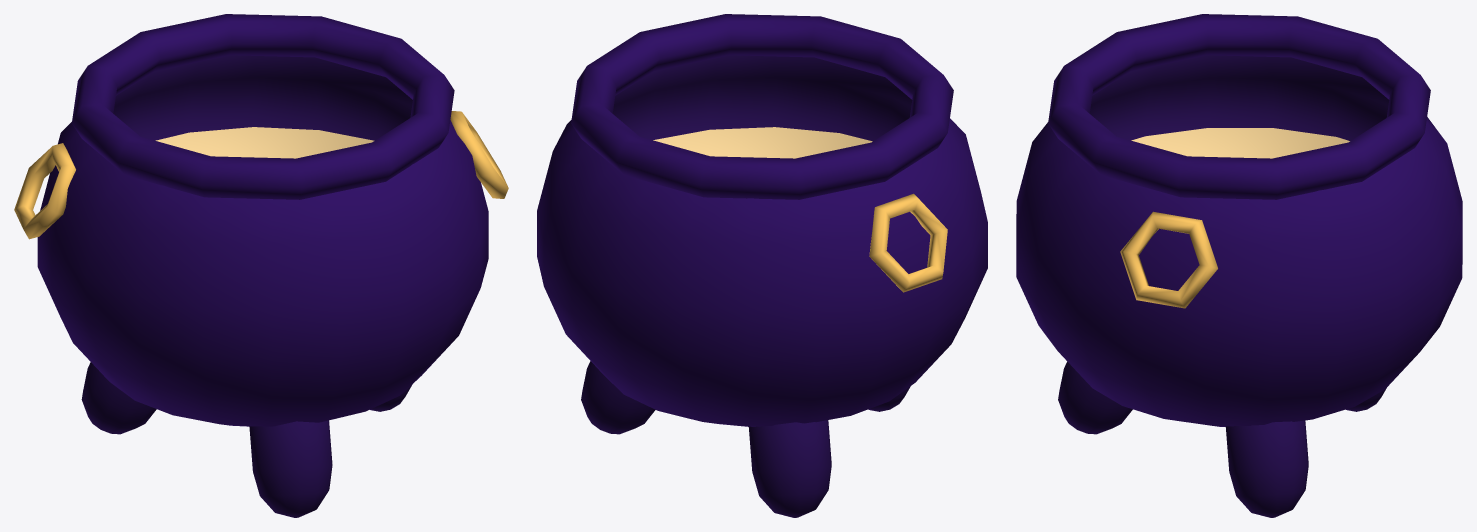
Rendered from cauldron.fbx.
The picture shows the model from 3 angles, left to right: view 1: azimuth 30°, elevation 25°; view 2: azimuth 150°, elevation 25°; view 3: azimuth 270°, elevation 25°; orthographic projection.
Parts seen in each view (by area): view 1: Cauldron; view 2: Cauldron; view 3: Cauldron.
Boxes of the visible parts, x1=… form: Cauldron: x1=14, y1=14, x2=508, y2=517; Cauldron: x1=537, y1=14, x2=987, y2=517; Cauldron: x1=1016, y1=14, x2=1462, y2=517.
Size of the model in its own units: 302 by 248 by 279.
